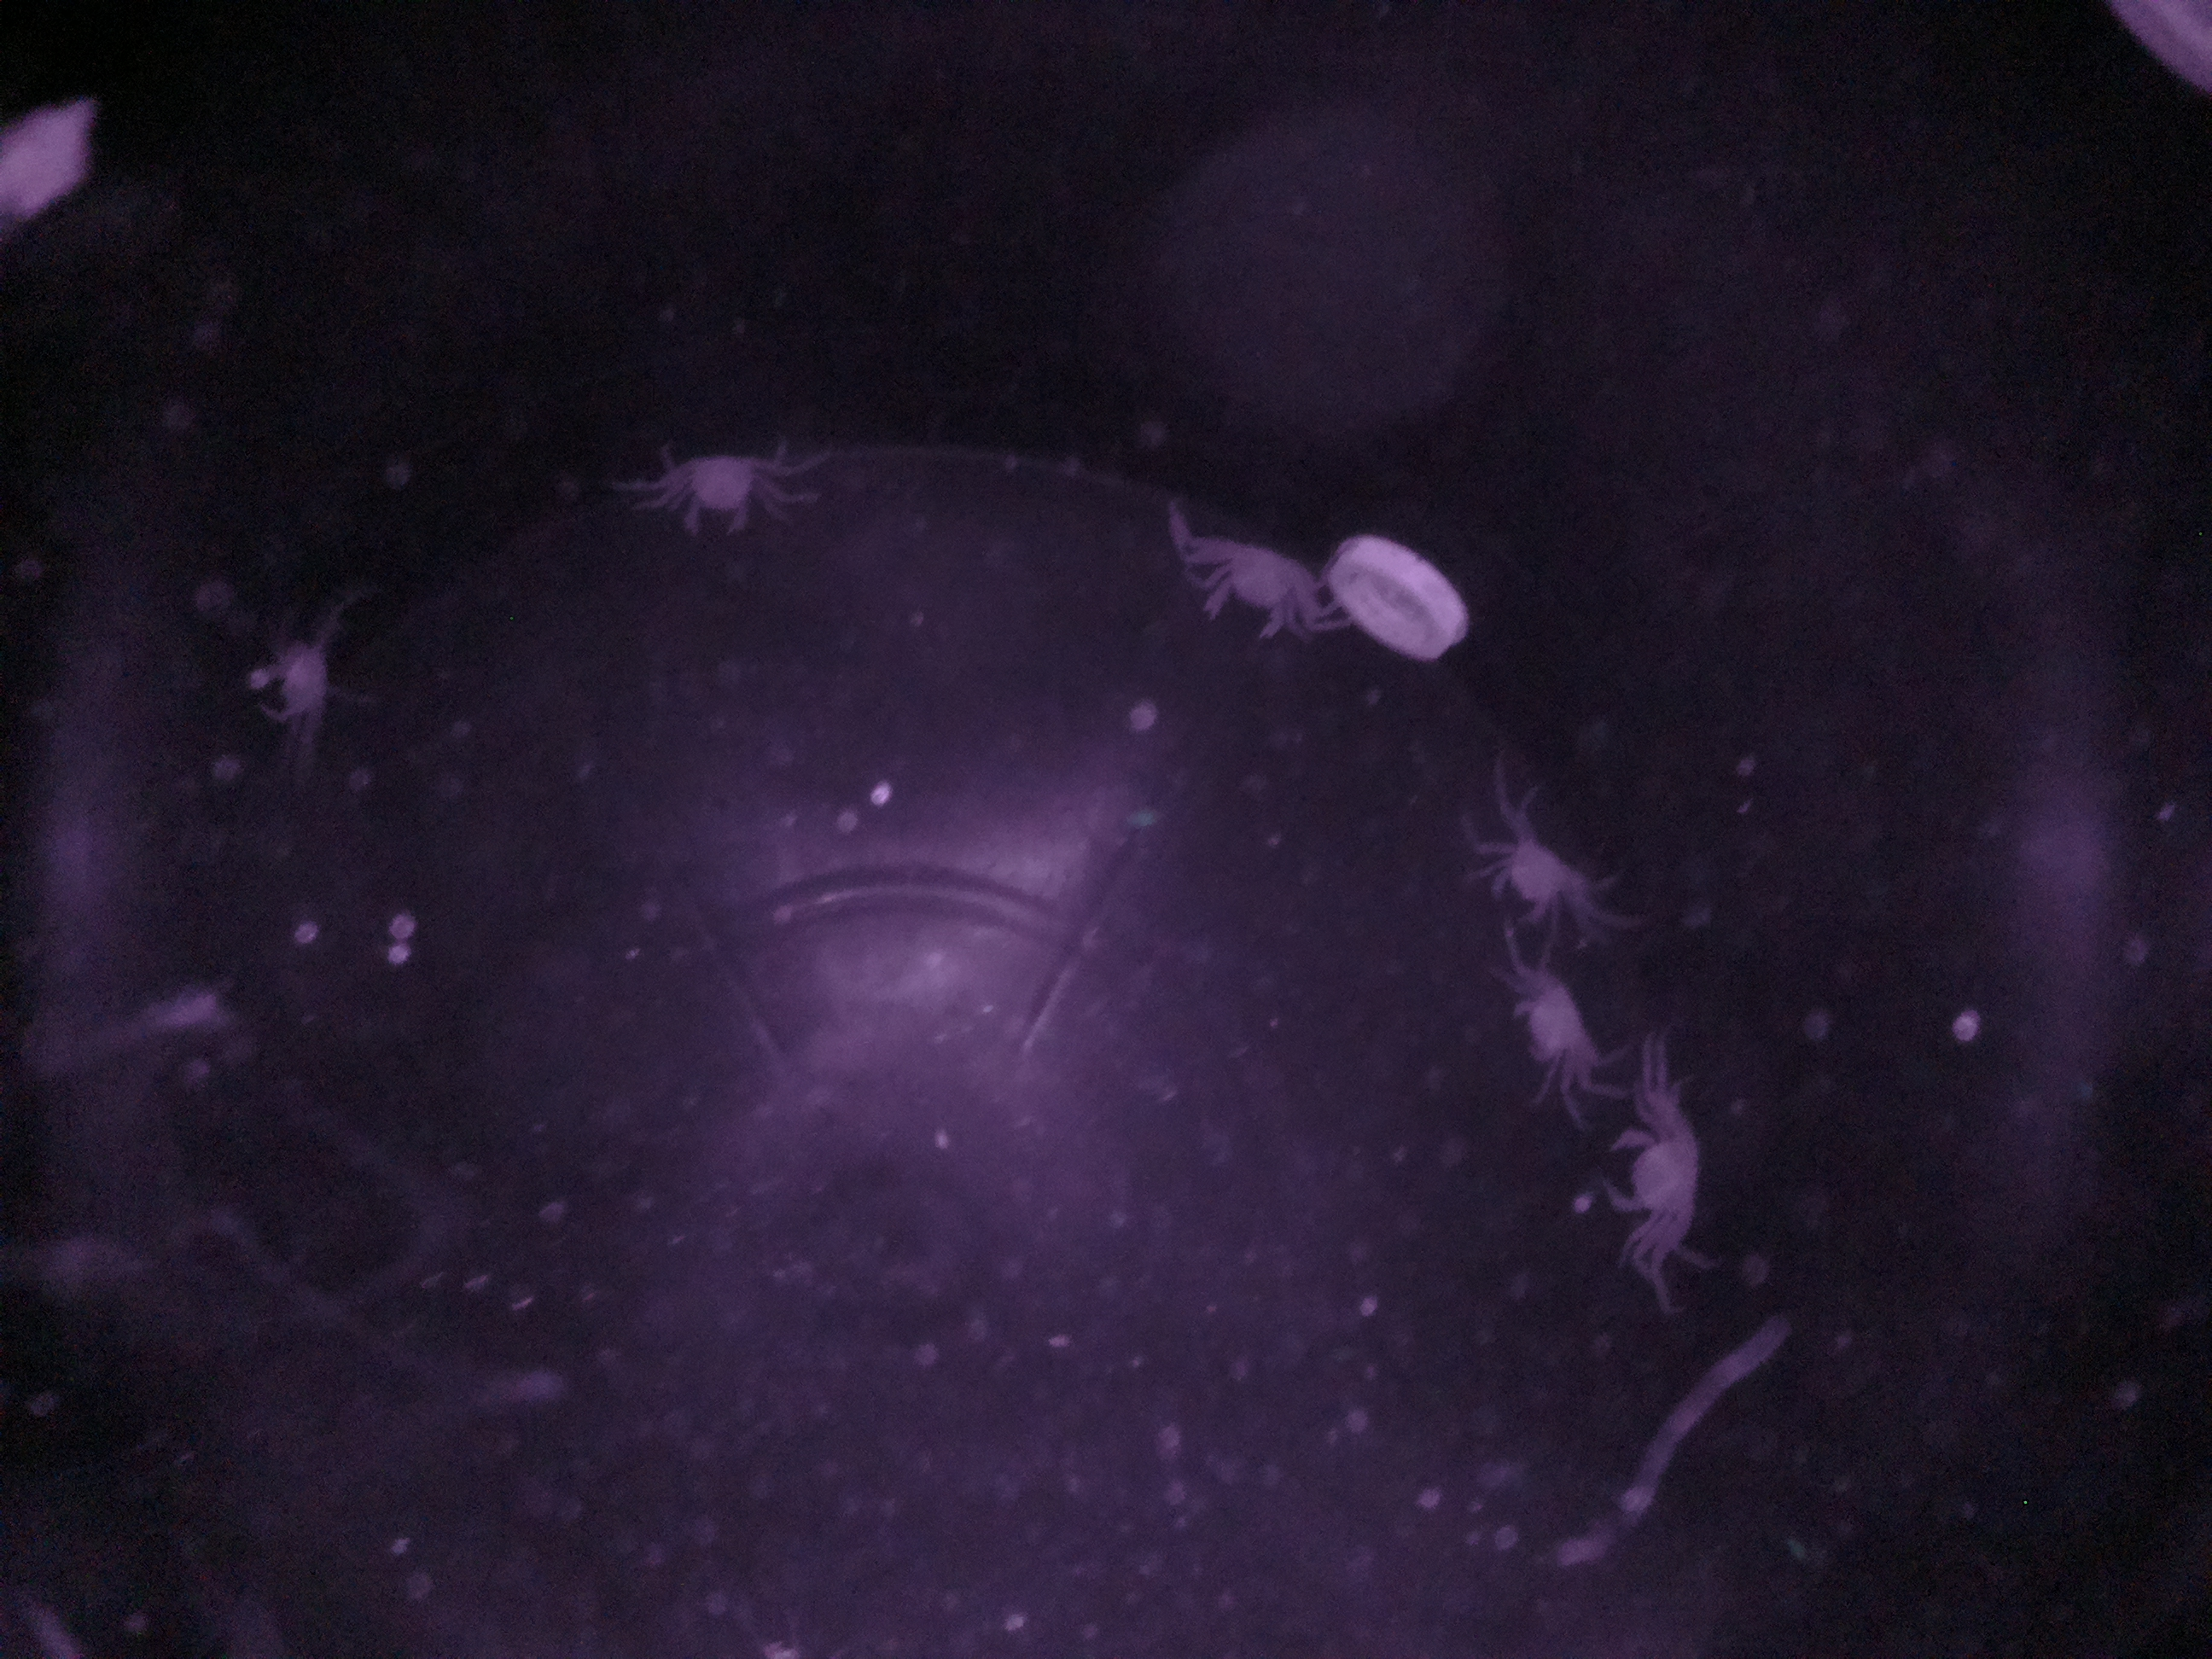Crab: (1573, 1094, 1735, 1249), (1174, 519, 1320, 674), (665, 427, 784, 572), (1493, 964, 1620, 1089), (1484, 798, 1590, 939)
